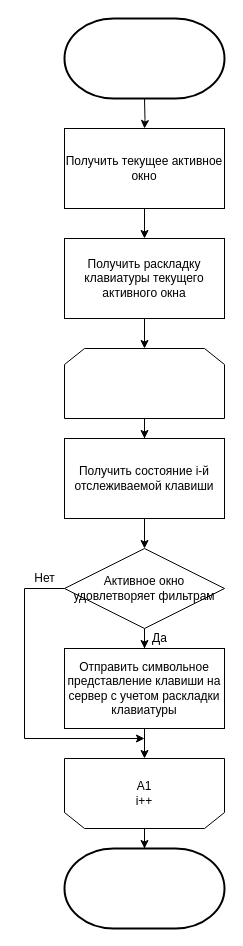
This 243x946 diagram has some shape labels left out. Each missing label, with the centre of its shape:
"A1 i = 0, i < количество отслеживаемых клавиш" belongs at point (144, 383).
"Конец Отследить нажатие клавиш" belongs at point (144, 888).
"Начало Отследить нажатие клавиш" belongs at point (144, 58).
